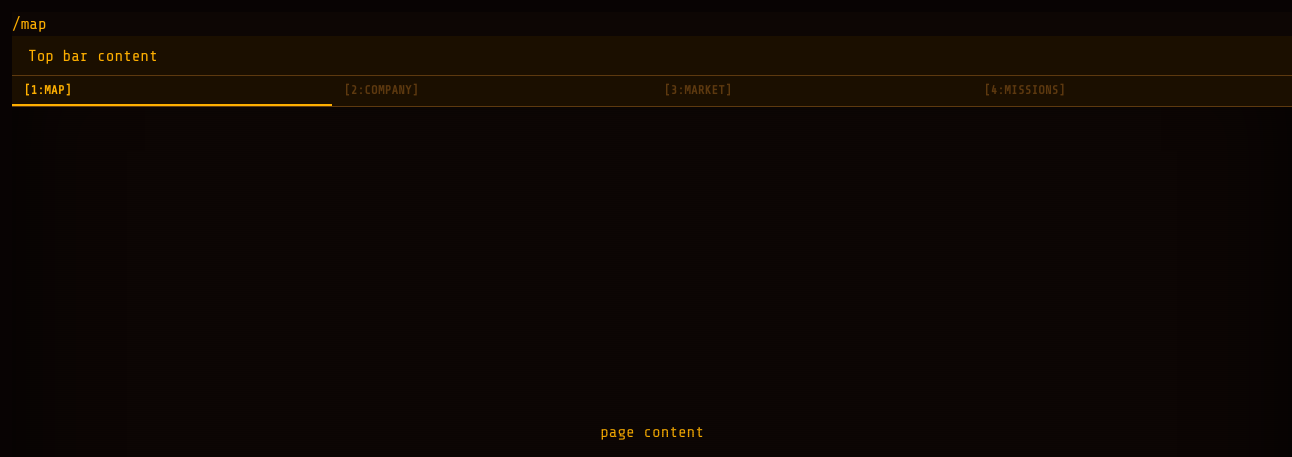
Scenario: GameShell › navigates when clicking a tab
Click the tab "[4:Missions]" at (1025, 90), box [984,83,1065,97]
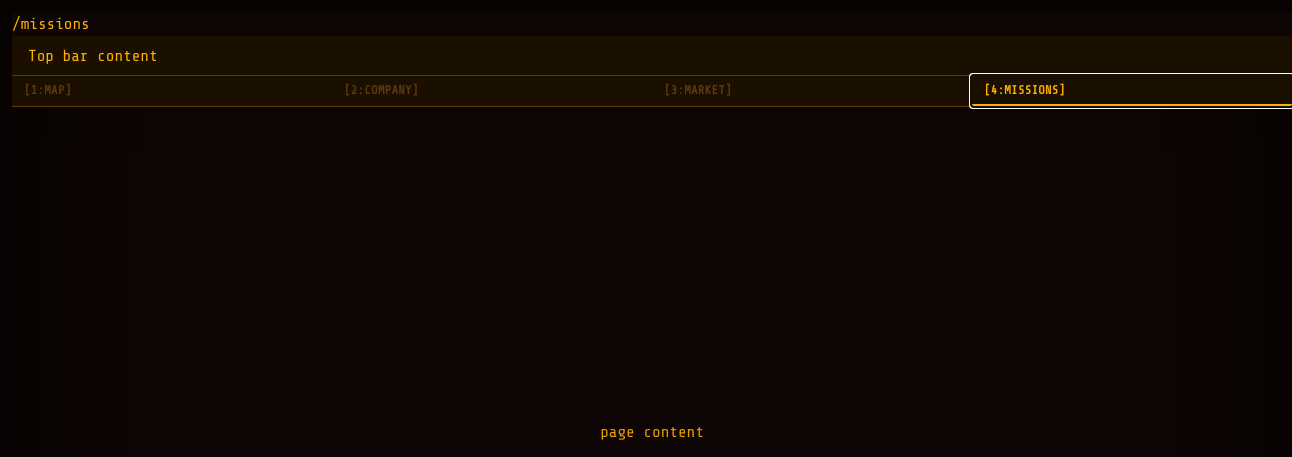
Expected: the text "/missions" is shown, [12,15,90,33]
